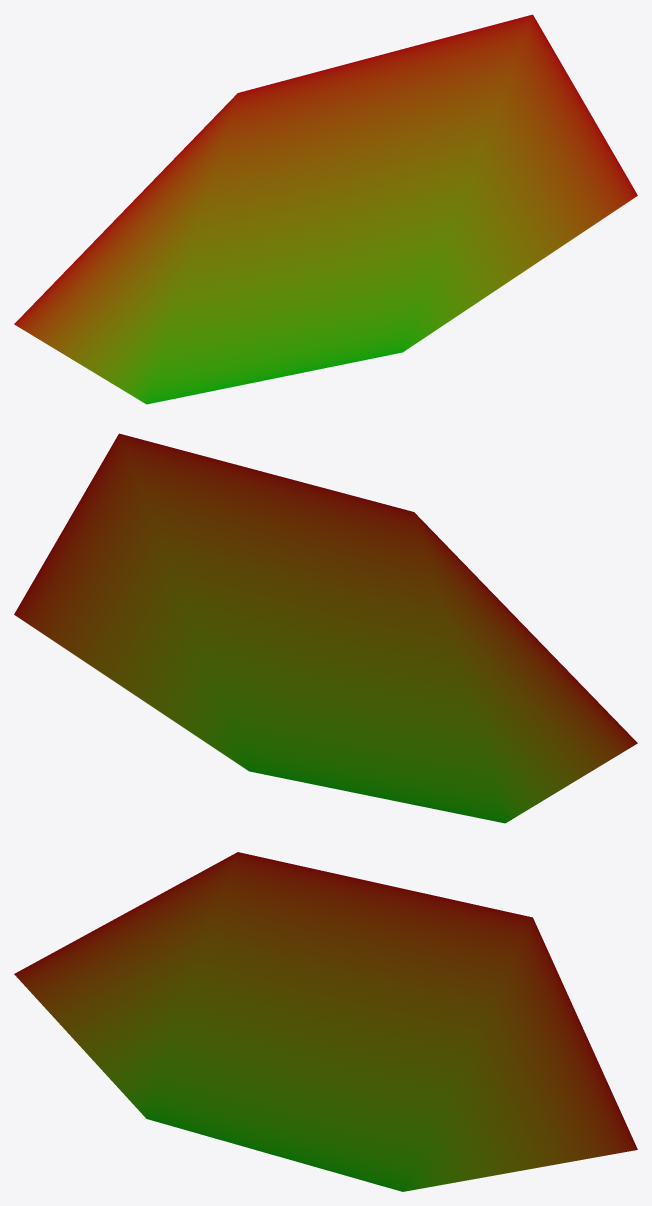
File: Tundra Grass_LOD7_Var22_wk2oaeyqx.fbx
3 renders of one model, top to bottom at view 1: azimuth 30°, elevation 25°; view 2: azimuth 150°, elevation 25°; view 3: azimuth 330°, elevation 25°, orthographic.
Visible parts, largest first — view 1: _7zj9_Var22_LOD7; view 2: _7zj9_Var22_LOD7; view 3: _7zj9_Var22_LOD7.
Part boxes in pixels (left/top/right/bottom): _7zj9_Var22_LOD7: left=14, top=14, right=637, bottom=404; _7zj9_Var22_LOD7: left=14, top=433, right=637, bottom=823; _7zj9_Var22_LOD7: left=14, top=852, right=637, bottom=1191.
Size of the model in its own units: 35.18 by 16.5 by 7.21e-07.
